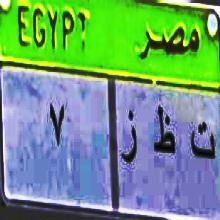7: (47, 100, 67, 151)
Thaa: (152, 102, 176, 165)
taa: (190, 117, 216, 171)
zay: (118, 103, 139, 170)
